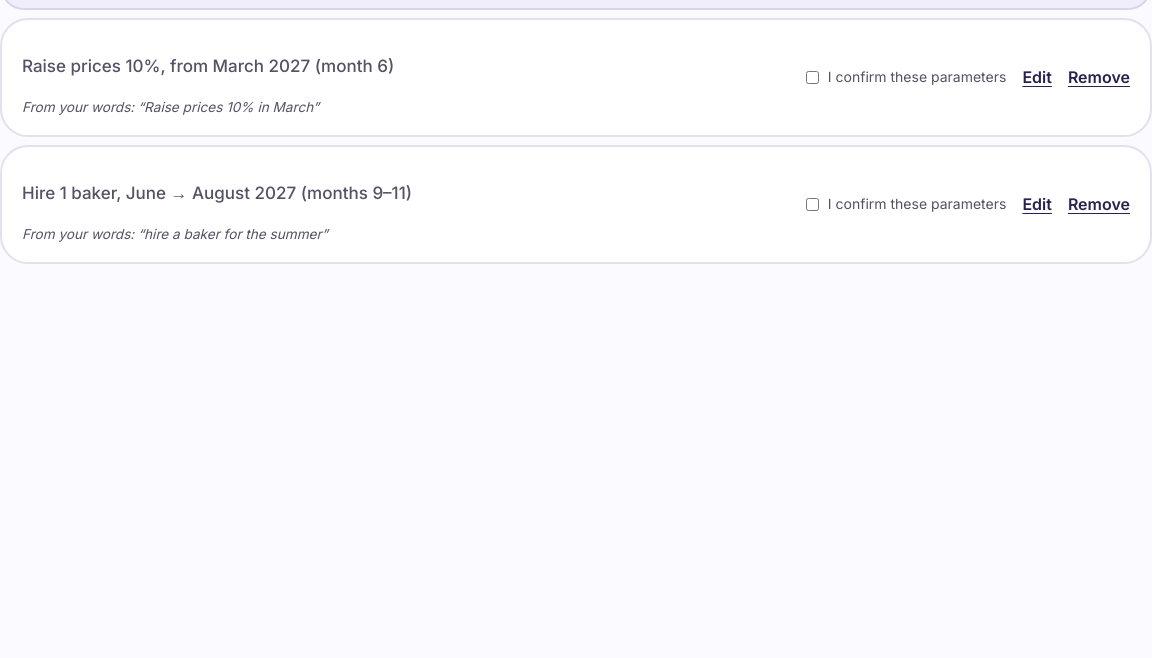
DecisionList with steps from the owner's own words › can cancel an edit
This screenshot has width=1152, height=658.
Click the 1st button "Edit" at point(1037, 78), box [1022,68,1052,87]
(page scrolled)
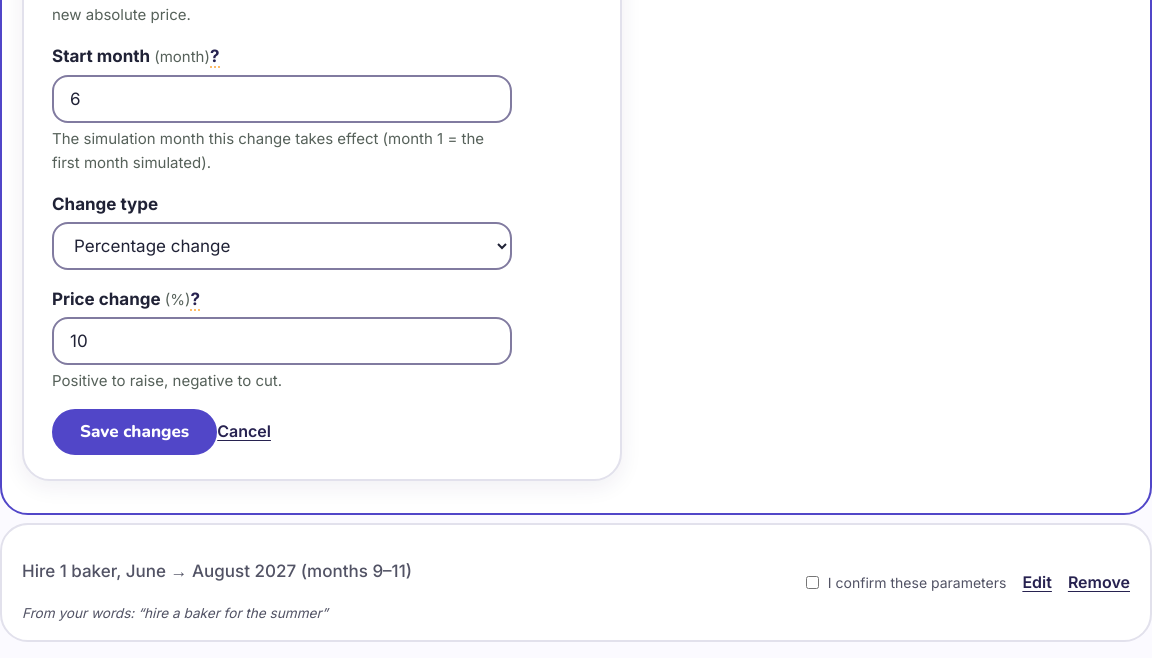
Click the button "Cancel" at point(244, 432), box [217,422,271,441]
(page scrolled)
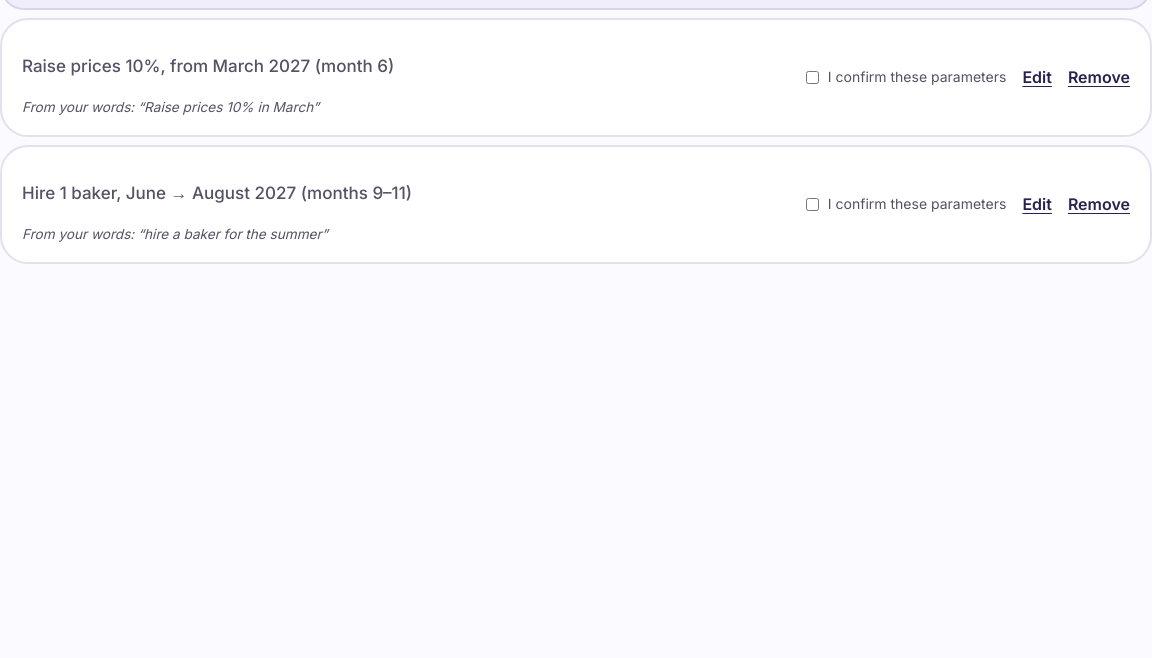
Check: the text "Raise prices 10%, from March 2027 (month 6)" is shown, box [22,56,394,76]
